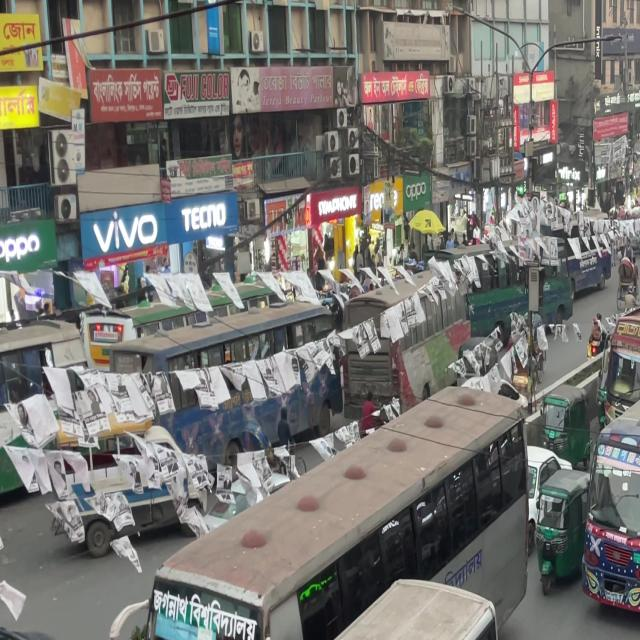bus: (128, 379, 532, 640), (54, 558, 515, 640), (581, 293, 640, 629), (0, 325, 92, 507), (603, 268, 640, 418)
car: (0, 623, 74, 639)
rickshaw: (539, 352, 613, 468), (531, 455, 591, 587)
